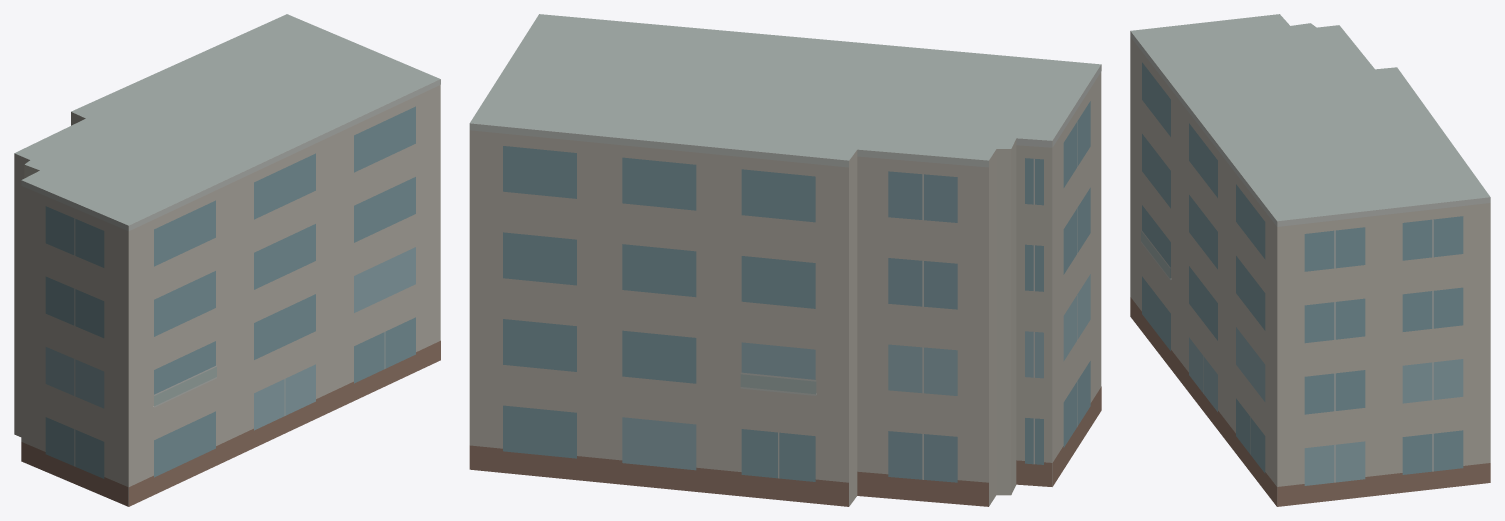
Rendered from survey-upis-32625363.glb.
3 renders of one model, left to right at view 1: azimuth 30°, elevation 25°; view 2: azimuth 150°, elevation 25°; view 3: azimuth 270°, elevation 25°, orthographic. The views are drawn at different scales.
Visible parts, largest first — view 1: survey-upis-32625363.tmp; view 2: survey-upis-32625363.tmp; view 3: survey-upis-32625363.tmp.
Part boxes in pixels (x1,y1,x2,y2): survey-upis-32625363.tmp: (14,14,440,506); survey-upis-32625363.tmp: (469,14,1101,506); survey-upis-32625363.tmp: (1130,14,1490,506).
Size of the model in its own units: 19 by 12.2 by 13.96.
